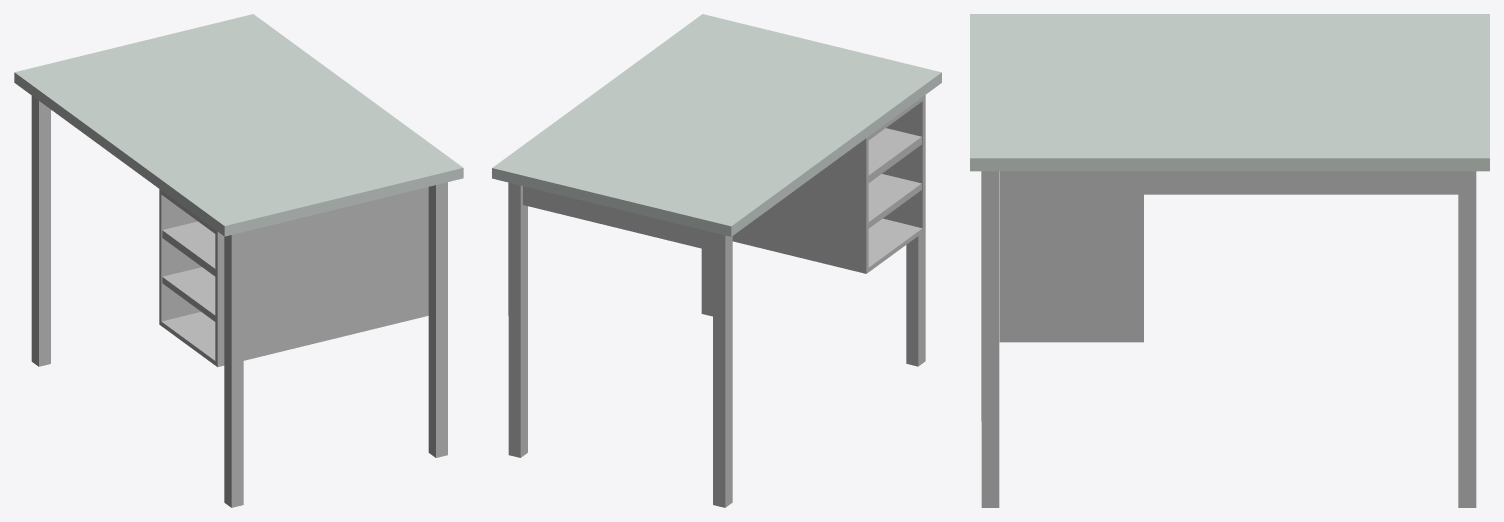
Rendered from SM_Table_A_04.fbx.
3 renders of one model, left to right at view 1: azimuth 30°, elevation 25°; view 2: azimuth 150°, elevation 25°; view 3: azimuth 270°, elevation 25°, orthographic. The views are drawn at different scales.
Visible parts, largest first — view 1: SM_Table_A_04; view 2: SM_Table_A_04; view 3: SM_Table_A_04.
Part boxes in pixels (x1,y1,x2,y2): SM_Table_A_04: [14, 14, 463, 507]; SM_Table_A_04: [492, 14, 941, 507]; SM_Table_A_04: [970, 14, 1489, 507].
Size of the model in its own units: 88.96 by 102 by 136.
